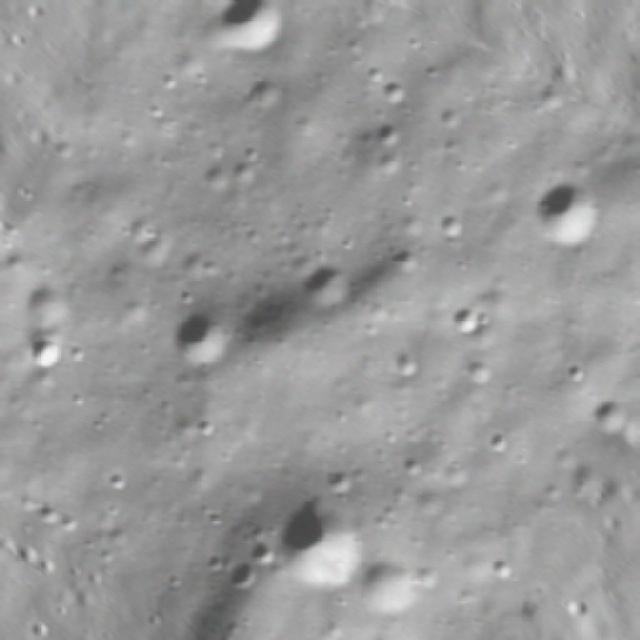crater: (265, 482, 381, 595), (517, 163, 612, 257), (200, 0, 314, 75), (159, 290, 252, 378), (353, 542, 438, 630), (16, 264, 98, 350), (422, 280, 496, 352), (291, 244, 360, 316), (360, 112, 408, 160), (221, 550, 268, 598), (238, 69, 285, 114), (26, 328, 71, 374), (242, 528, 286, 570)
